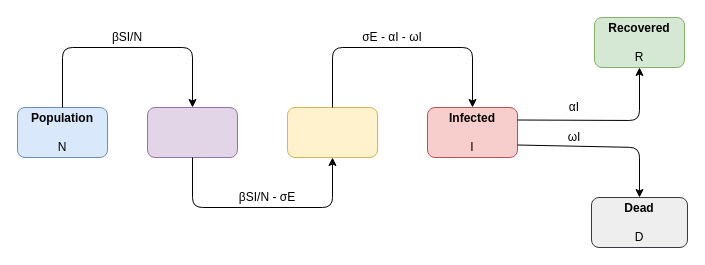
Some shapes in this 705 by 265 pixel diagram are drawn without their labels. The centre of each missing label's shape, as x and y in pixels:
"Exposed E" belongs at pixel 332 132.
"Susceptible S" belongs at pixel 192 132.
